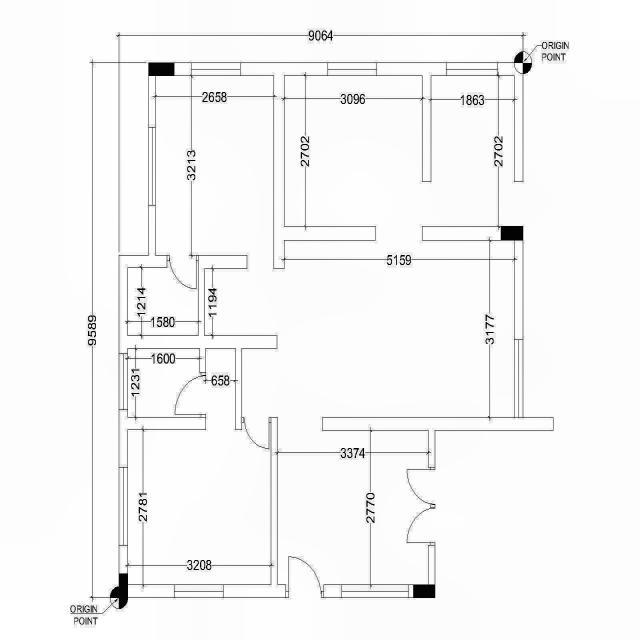Column: (148, 62, 174, 76), (501, 226, 524, 240), (413, 584, 435, 598), (119, 574, 128, 598)
Door: (286, 556, 324, 598), (174, 372, 206, 418), (166, 254, 198, 290), (242, 418, 272, 450)
Double-Door: (406, 467, 436, 545)
Window: (342, 584, 408, 598), (118, 467, 128, 546), (446, 62, 498, 76), (514, 340, 523, 418), (174, 584, 224, 598), (328, 62, 377, 76), (192, 62, 240, 76), (148, 127, 156, 206), (119, 353, 128, 410)
